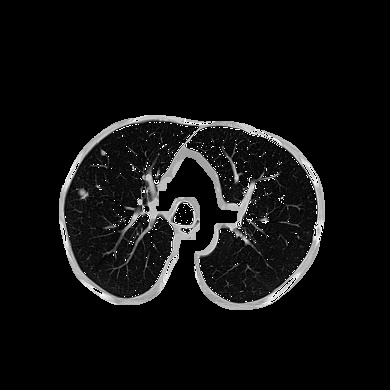PN: (101, 150, 105, 154)
